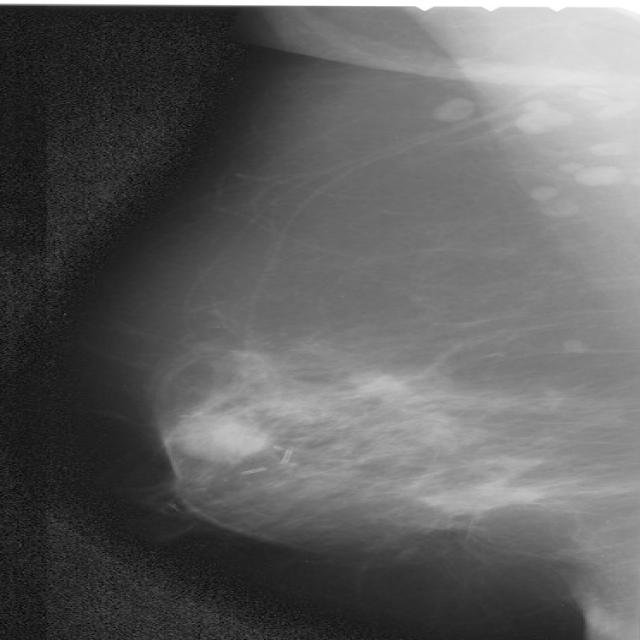tumour: (170, 414, 266, 460)
